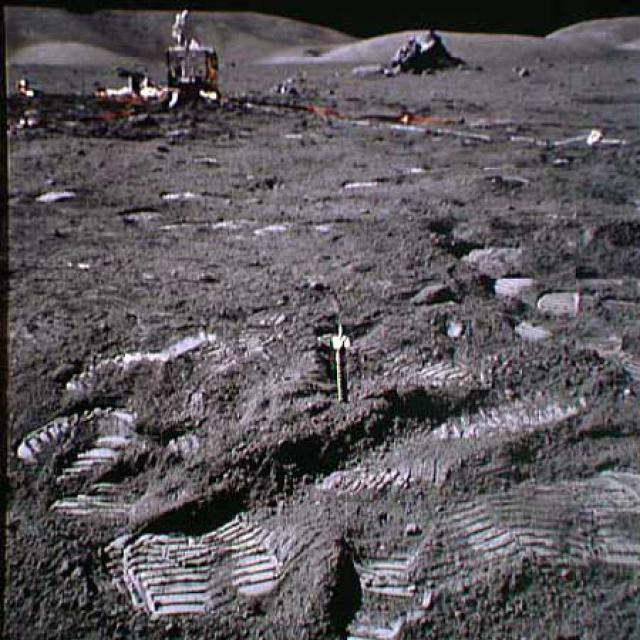artifact: (89, 9, 232, 112), (314, 324, 366, 408)
rock: (390, 26, 460, 74), (347, 60, 387, 78)
